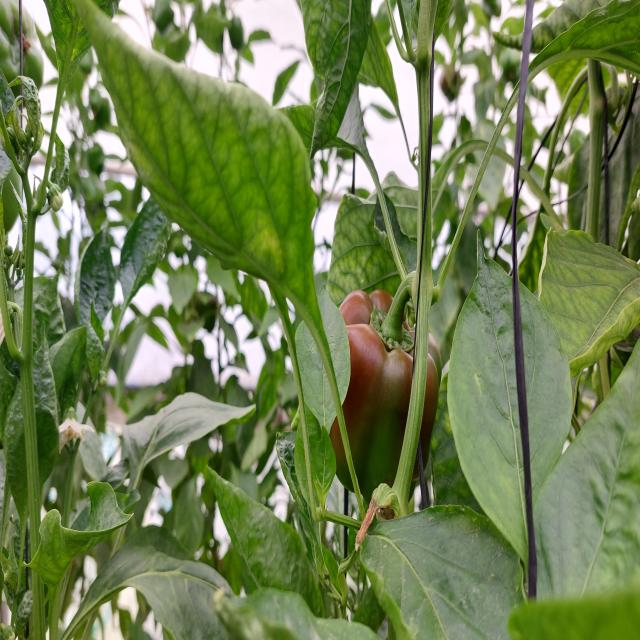BrownishRed--Can-be-Harvested: (324, 282, 444, 503)
